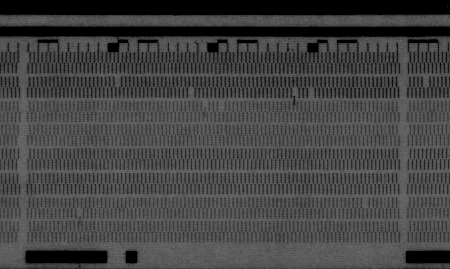Broken hole: (215, 99, 228, 114), (420, 76, 432, 89), (185, 87, 197, 99), (112, 76, 123, 89), (306, 87, 317, 99), (360, 197, 371, 209)
Oblique printing: (74, 207, 86, 223), (289, 87, 299, 103), (200, 100, 210, 115)
